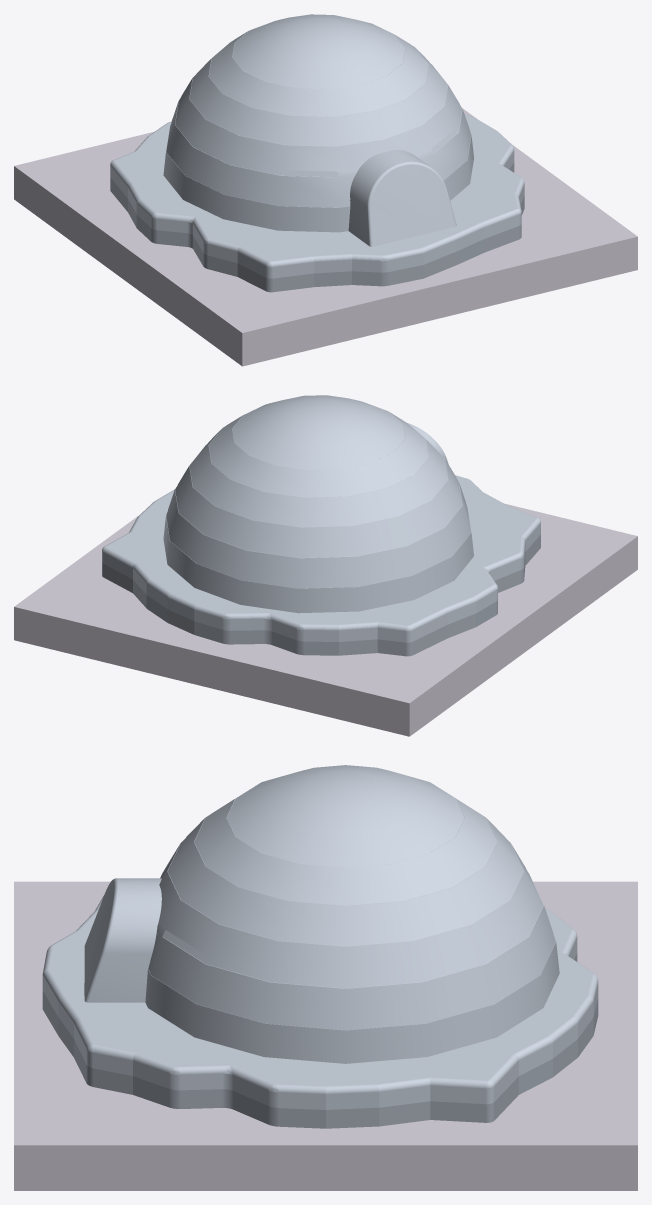
The model's file is ice_ice_house.fbx.
3 renders of one model, top to bottom at view 1: azimuth 30°, elevation 25°; view 2: azimuth 150°, elevation 25°; view 3: azimuth 270°, elevation 25°, orthographic. The views are drawn at different scales.
Visible parts, largest first — view 1: ice house, Cube.024, base, out door; view 2: ice house, Cube.024, base; view 3: ice house, Cube.024, base, out door.
Boxes of the visible parts, x1,y1,x2,y2 form: ice house: [163, 14, 473, 232]; Cube.024: [14, 108, 637, 366]; base: [110, 113, 524, 292]; out door: [348, 150, 456, 246]; ice house: [163, 395, 473, 613]; Cube.024: [14, 489, 637, 736]; base: [102, 475, 540, 656]; ice house: [145, 765, 559, 1063]; Cube.024: [14, 881, 637, 1190]; base: [42, 896, 598, 1128]; out door: [84, 878, 161, 1002].
Bounding box in the file's own units: 301 × 146 × 301.
